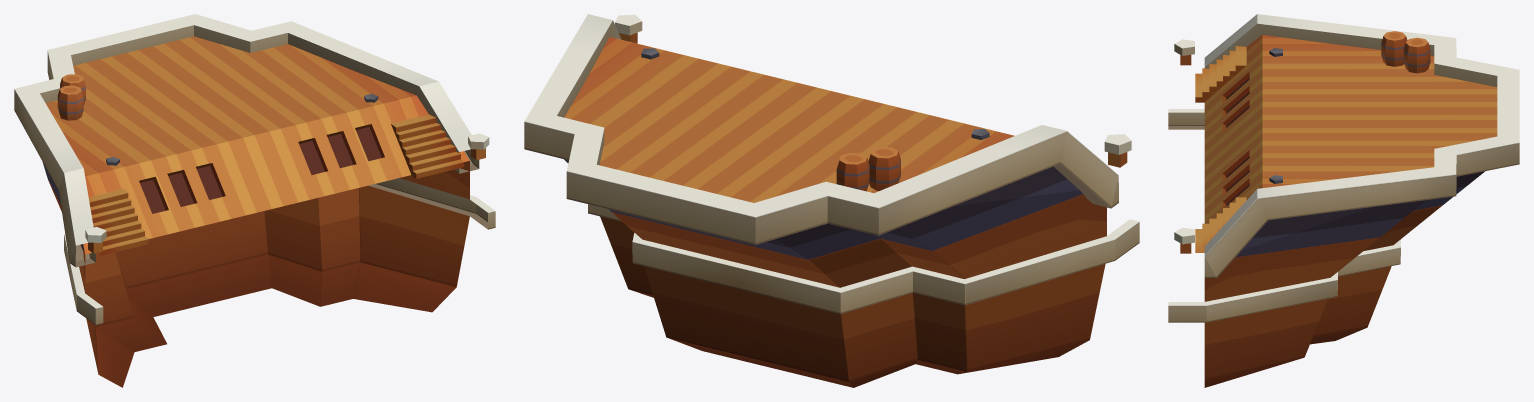
Rendered from Pirate_Ship_We_Stern_001.FBX.
3 renders of one model, left to right at view 1: azimuth 30°, elevation 25°; view 2: azimuth 150°, elevation 25°; view 3: azimuth 270°, elevation 25°, orthographic. The views are drawn at different scales.
Parts seen in each view (by area): view 1: Pirate_Ship_We_Stern_001; view 2: Pirate_Ship_We_Stern_001; view 3: Pirate_Ship_We_Stern_001.
Part boxes in pixels (box(x1,y1,x2,y2)): Pirate_Ship_We_Stern_001: box(14, 14, 495, 387); Pirate_Ship_We_Stern_001: box(524, 14, 1139, 387); Pirate_Ship_We_Stern_001: box(1168, 14, 1519, 387).
Bounding box in the file's own units: 21.22 × 10.98 × 15.87.
